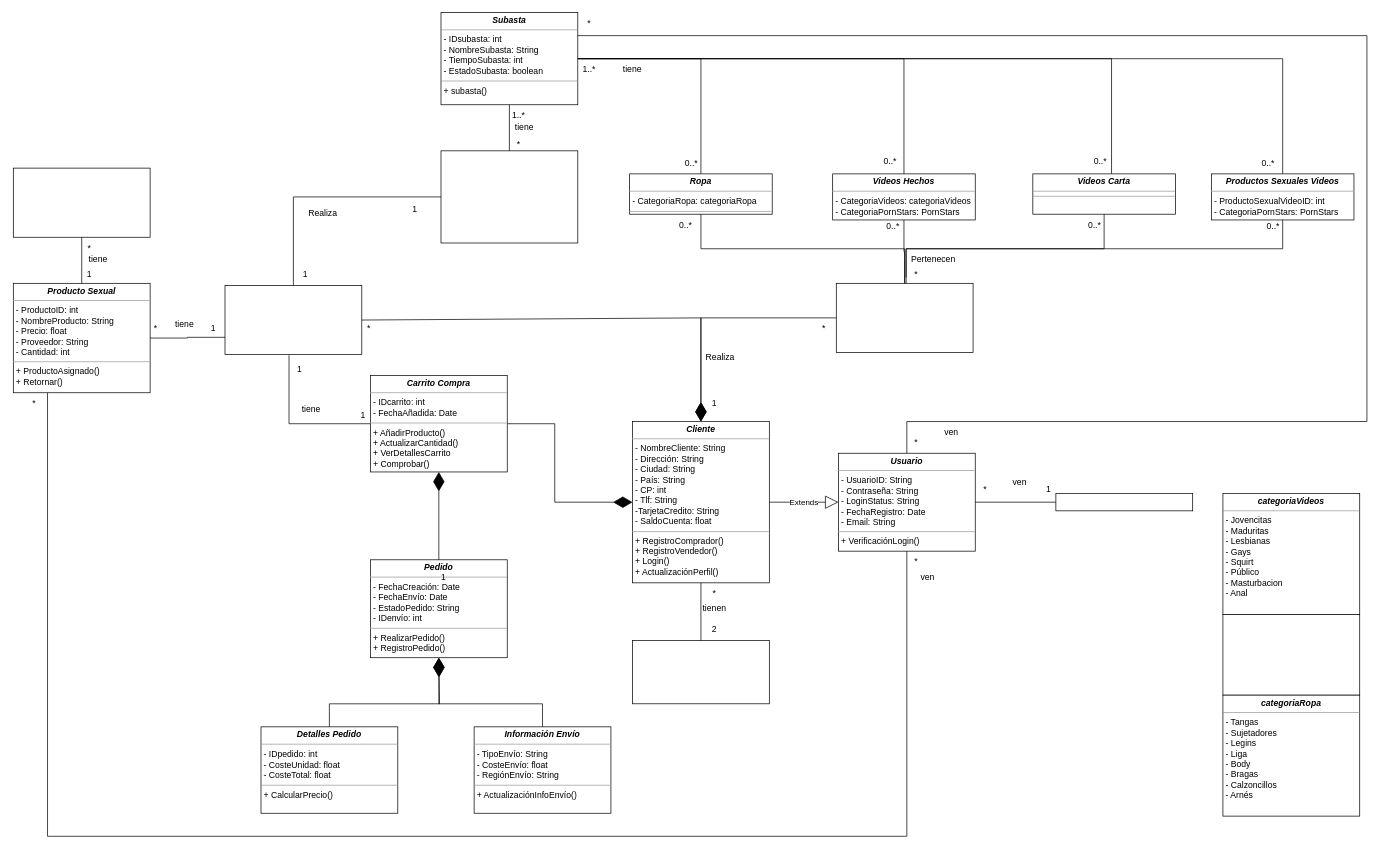
The diagram is 1380 pixels wide and 850 high, and some of its shapes have lost their labels. The shapes that lost their labels are listed below. From the top down, each one's box as (x1, y1, x2, y2) in pixels, then its label:
(13, 167, 150, 237): Existencia + RegistroDeVenta() + Existencias()
(440, 150, 578, 243): Puja - IDpuja: int - Precio: float + compra() + Mayorque()
(224, 285, 362, 355): Compra - IDcompra: int - FechaCompra: Date + compra()
(836, 283, 973, 352): Vende - IDventa: int - FechaVenta: Date + venta()
(1055, 493, 1193, 511): Blog
(632, 640, 769, 704): Sistema de pago + ConsultarSaldo()
(1222, 614, 1360, 695): PornStars - AlexandraTargaryen - AlexisTexas - LisaAnn - SashaGrey
